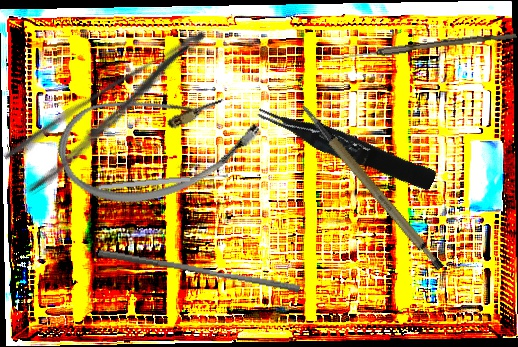Cannula: (47, 56, 270, 225)
Dressing Forceps: (0, 25, 230, 198)
Pusher: (96, 248, 302, 294)
Scalpel Handle: (300, 85, 448, 287)
Surgical Spoon: (330, 29, 517, 64), (98, 172, 229, 191)
Tissue Forceps: (254, 92, 438, 200)
